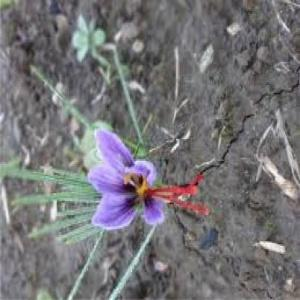Saffron: (90, 127, 170, 230)
